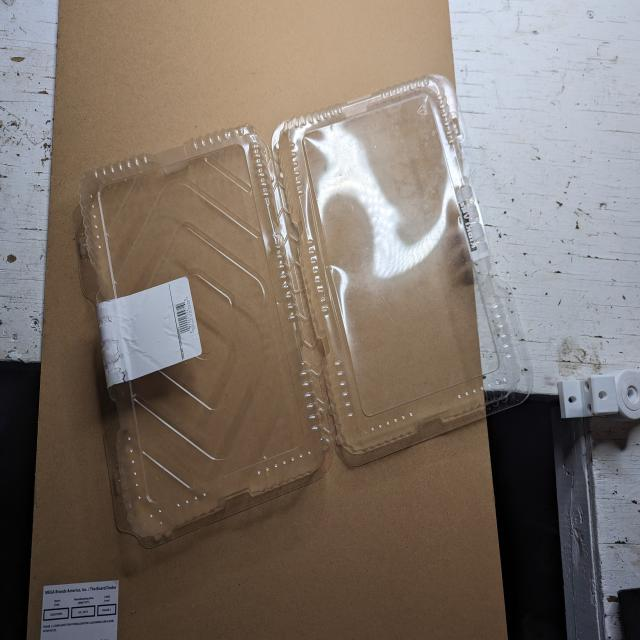Clamshell: (64, 62, 542, 567)
Label: (92, 272, 204, 392)
